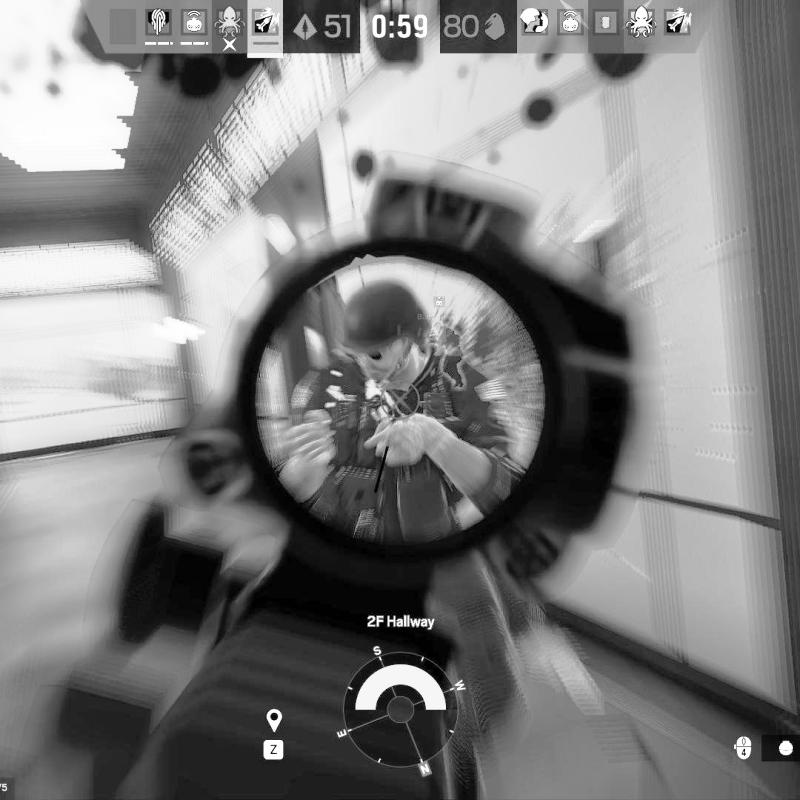Character: (276, 282, 518, 524)
Friend_label: (417, 292, 460, 323)
Head: (334, 284, 430, 386)
